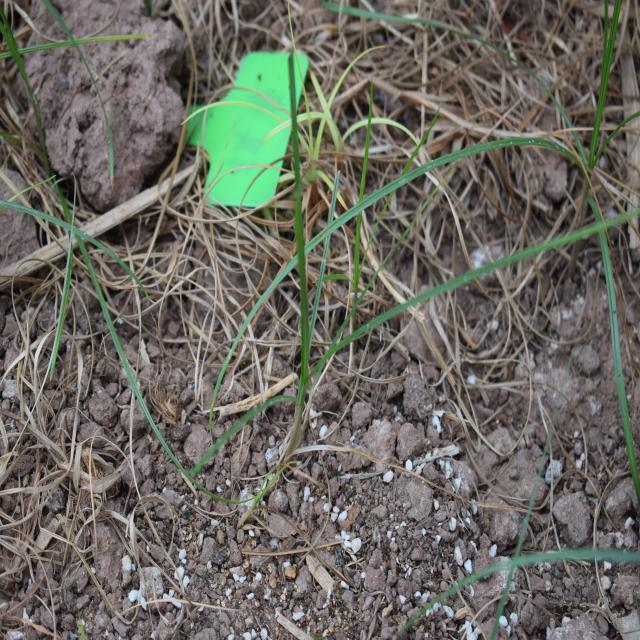sedge: (221, 24, 489, 460)
